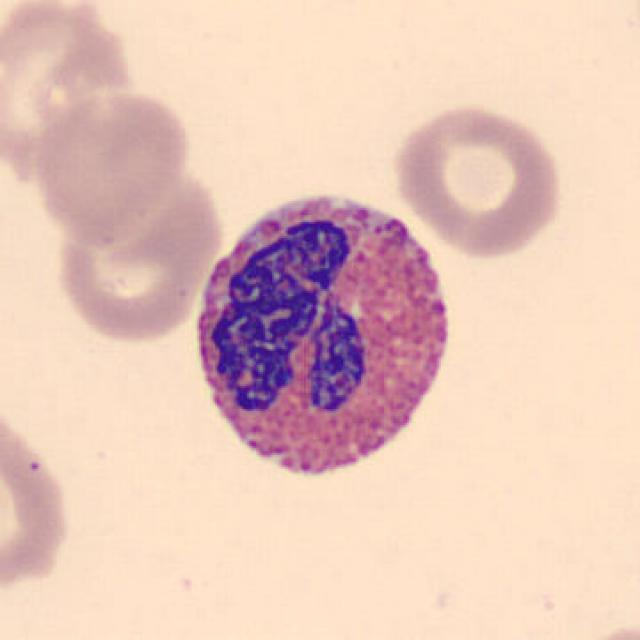Eosinophil: (182, 171, 468, 501)
RBC: (46, 180, 224, 345), (389, 99, 569, 261), (27, 88, 194, 245), (0, 0, 139, 182), (0, 391, 76, 606)
